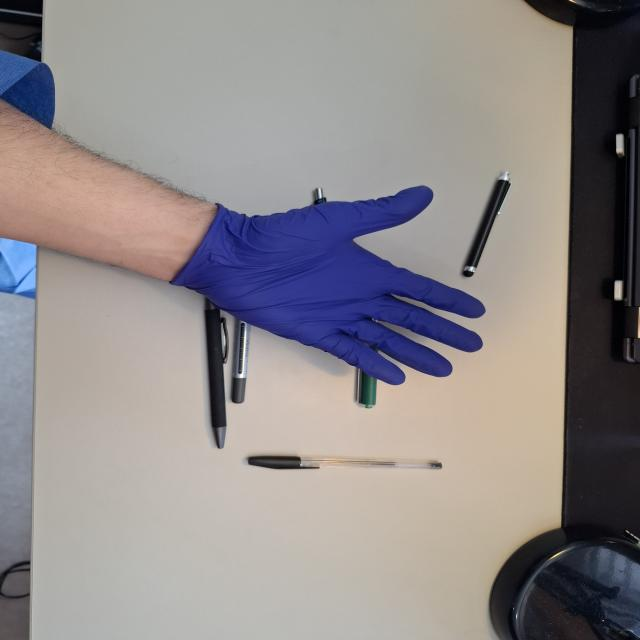glove_on: (185, 184, 490, 386)
